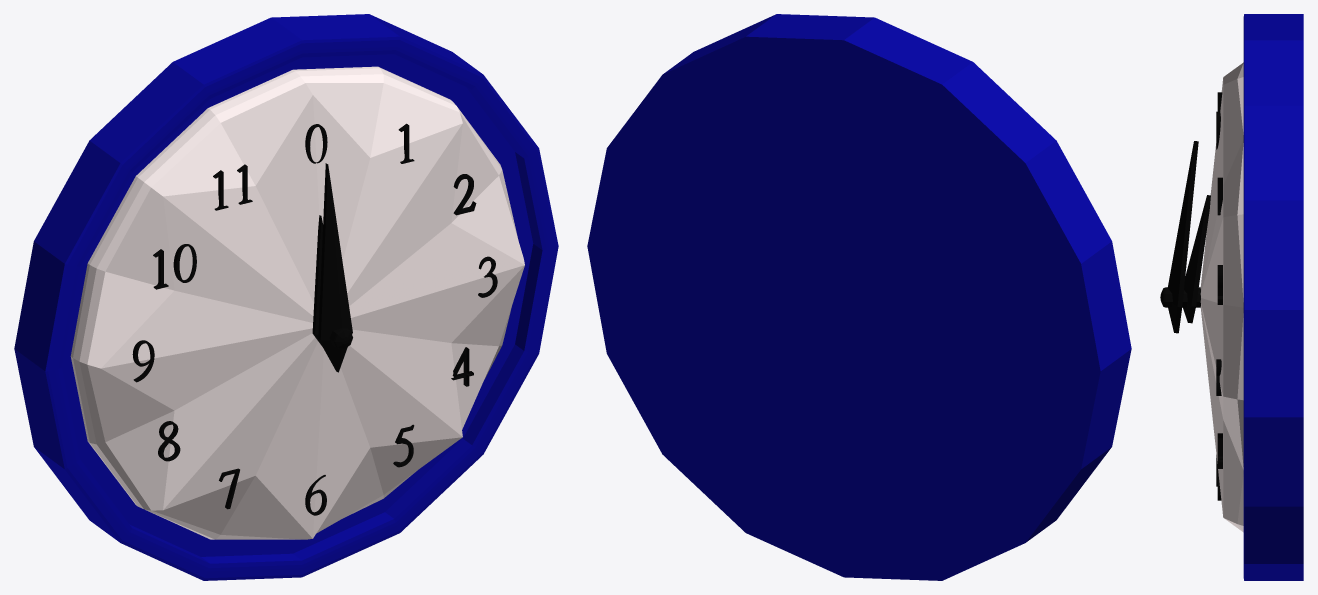
The model's file is theme02_clock_blue.fbx.
3 renders of one model, left to right at view 1: azimuth 30°, elevation 25°; view 2: azimuth 150°, elevation 25°; view 3: azimuth 270°, elevation 25°, orthographic. The views are drawn at different scales.
Visible parts, largest first — view 1: clock_blue; view 2: clock_blue; view 3: clock_blue.
Part boxes in pixels (<box>): clock_blue: <box>14,14,558,580</box>; clock_blue: <box>587,14,1131,580</box>; clock_blue: <box>1160,14,1303,580</box>.
Size of the model in its own units: 196 by 196 by 49.6.
